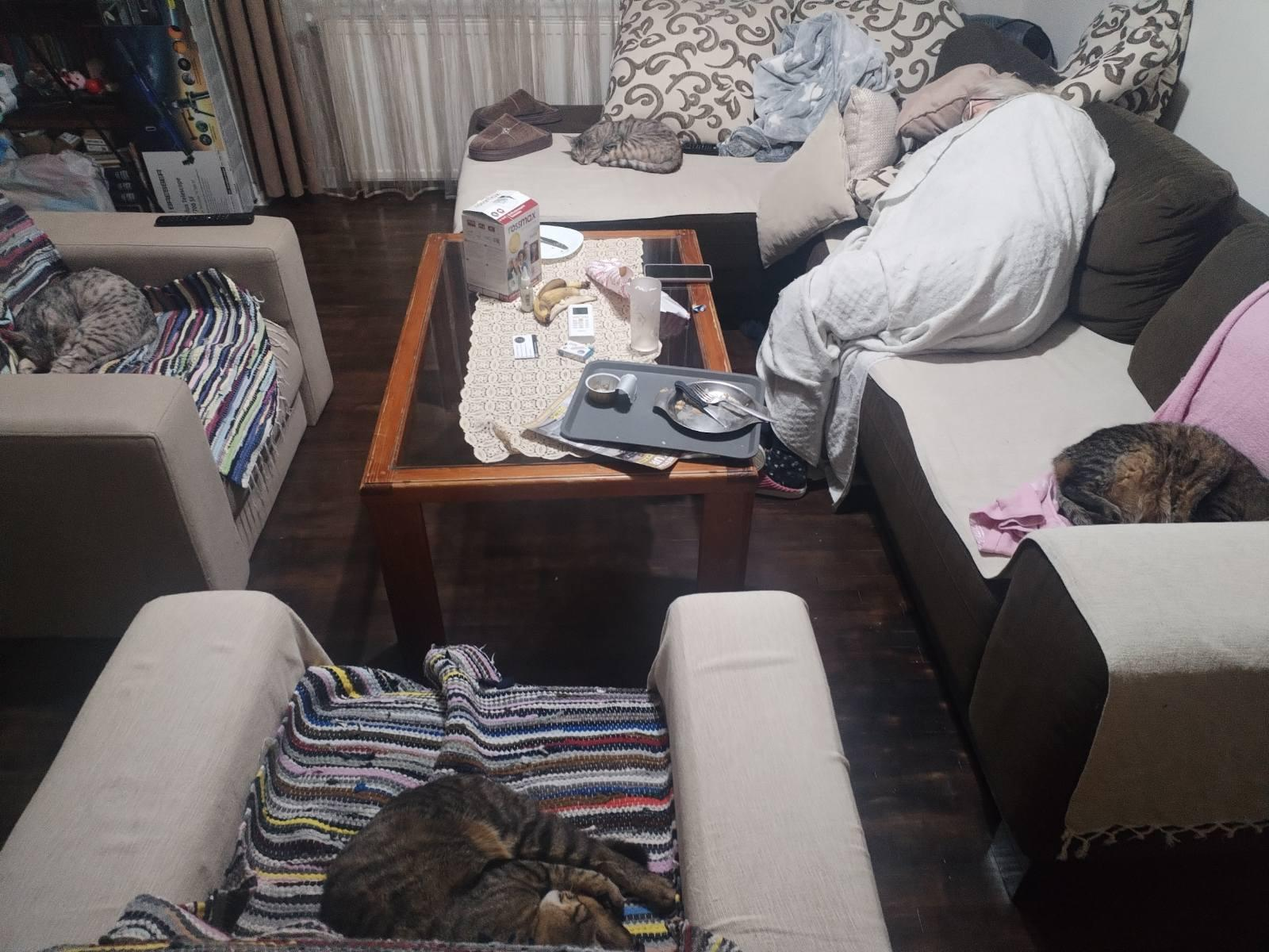macka: (323, 772, 677, 952), (1052, 422, 1269, 526), (0, 268, 158, 377), (561, 118, 683, 174)
